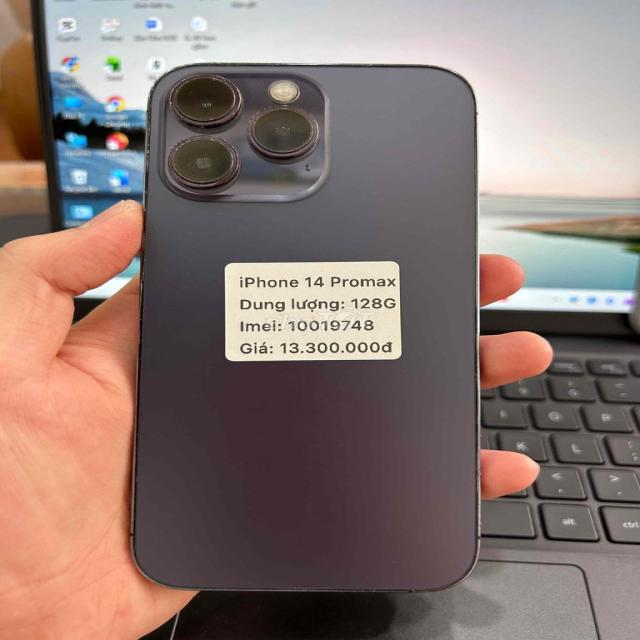scratch: (249, 100, 327, 172), (148, 130, 244, 188), (166, 75, 252, 130)
